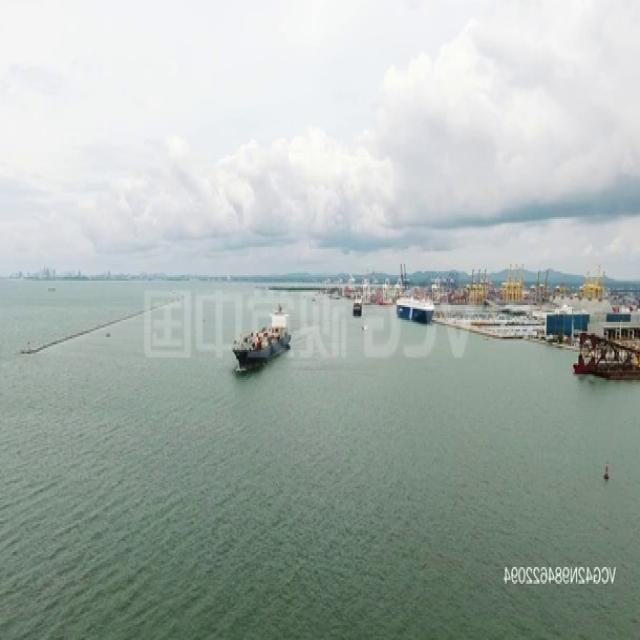cargoship: (233, 303, 295, 367)
